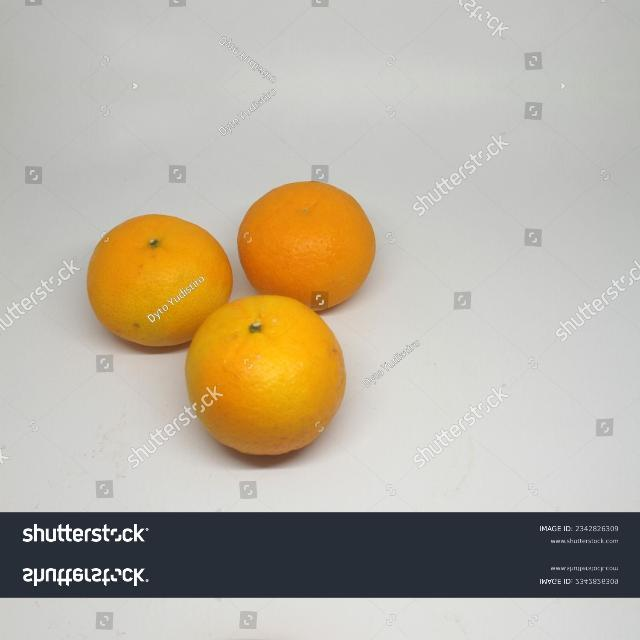Orange: (184, 293, 346, 456), (86, 212, 232, 348), (236, 179, 376, 312)
